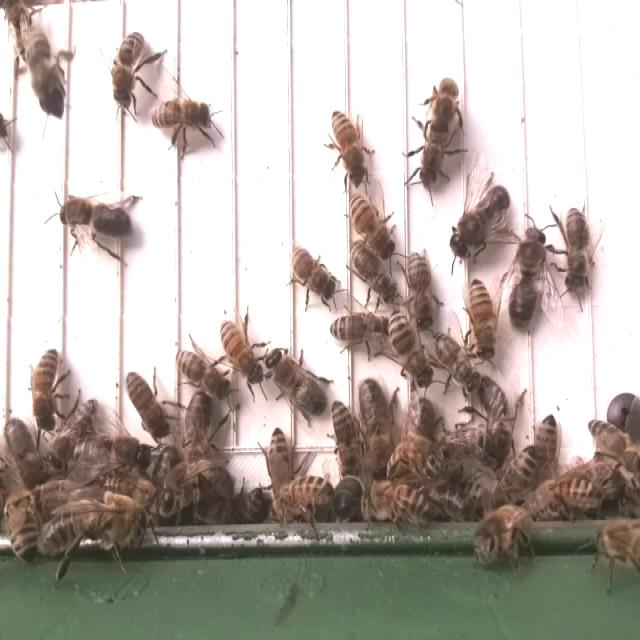Drone: (445, 184, 512, 260), (506, 223, 551, 332), (56, 191, 138, 250), (263, 347, 329, 420), (357, 373, 391, 482)
Worker: (385, 307, 433, 394), (121, 367, 171, 445), (172, 343, 231, 403), (219, 317, 267, 390), (346, 190, 398, 256), (348, 241, 402, 304), (328, 106, 370, 186), (466, 273, 501, 366), (561, 202, 593, 303), (107, 32, 146, 114), (423, 75, 462, 151), (30, 346, 62, 436), (329, 397, 361, 484), (145, 97, 214, 136), (326, 307, 388, 348), (408, 250, 436, 333), (267, 426, 293, 505)
